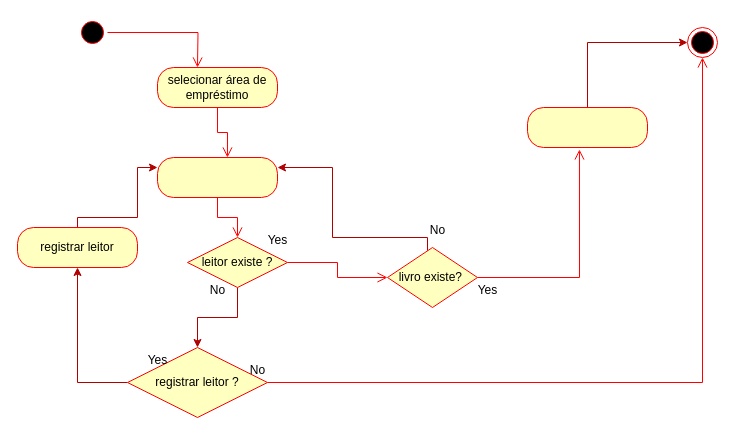
Image size: 735x435. Some labels were removed from this diagram. Each missing label, with the box of its shape:
registrar emprestimo: (526, 106, 648, 148)
selecionar leitor e livro: (156, 156, 278, 198)
